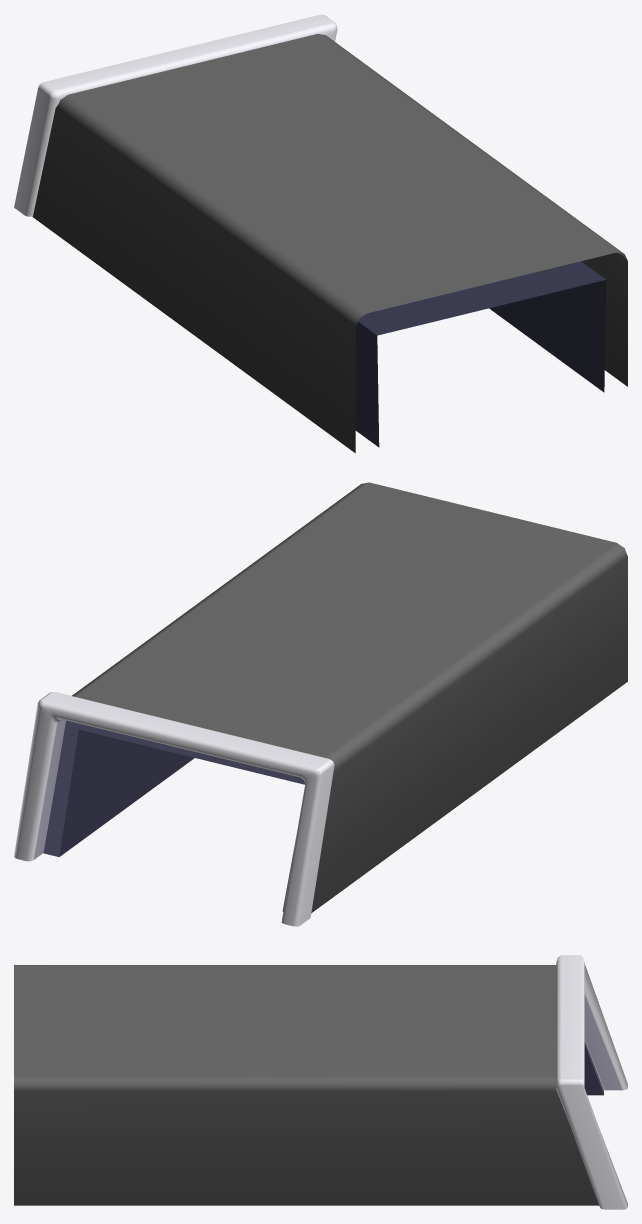
The model's file is Spin_2.fbx.
The picture shows the model from 3 angles, top to bottom: view 1: azimuth 30°, elevation 25°; view 2: azimuth 150°, elevation 25°; view 3: azimuth 270°, elevation 25°; orthographic projection. The views are drawn at different scales.
Parts seen in each view (by area): view 1: Spin_2; view 2: Spin_2; view 3: Spin_2.
Part boxes in pixels (x1,y1,x2,y2): Spin_2: [14, 14, 627, 453]; Spin_2: [14, 482, 627, 926]; Spin_2: [14, 955, 627, 1209].
Bounding box in the file's own units: 30.52 × 14.42 × 62.08.
Materials: 1 (1 with a texture image).
